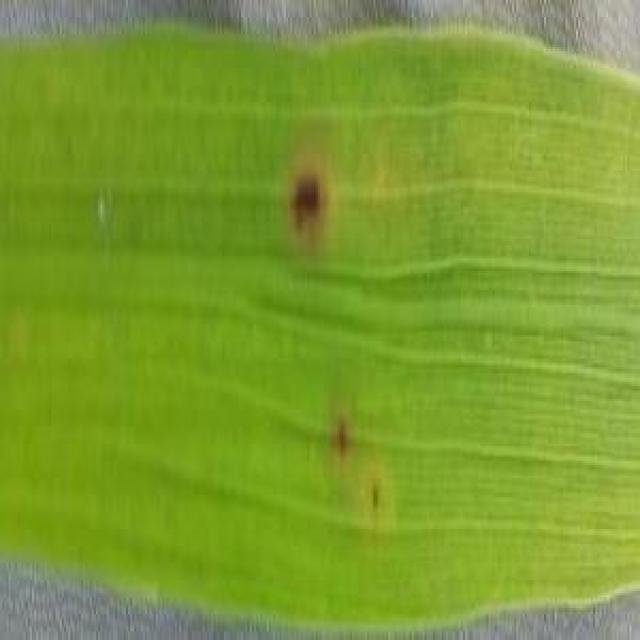brownspots: (314, 414, 406, 518), (270, 162, 344, 241)
